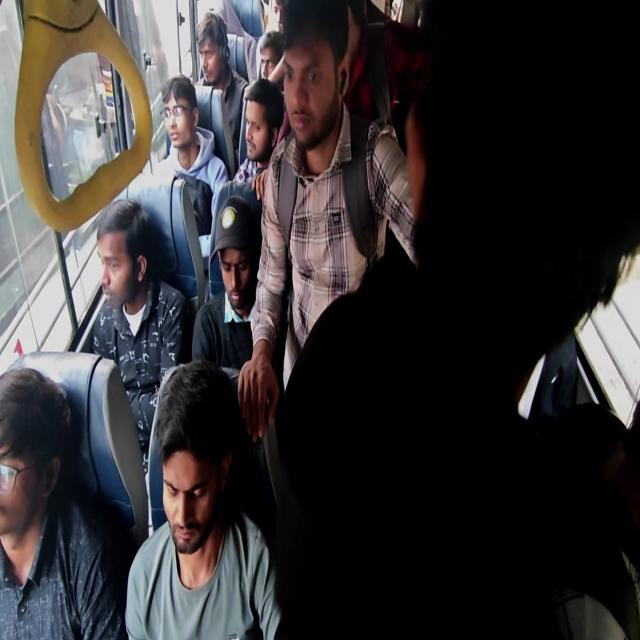person: (274, 0, 639, 638), (236, 1, 419, 441), (124, 358, 284, 638), (0, 366, 124, 639), (91, 197, 191, 535), (190, 190, 280, 532), (190, 193, 268, 375), (159, 74, 229, 235), (193, 10, 249, 150), (232, 78, 284, 186), (256, 29, 291, 147), (257, 29, 285, 89)
